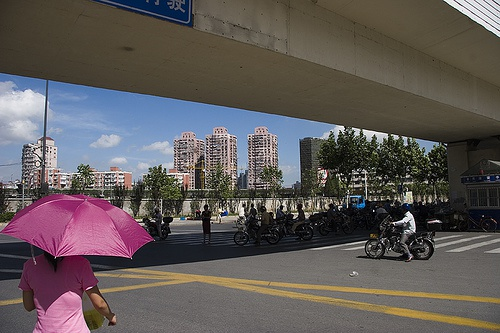non-vehicle: (365, 215, 436, 263), (233, 213, 281, 246), (316, 210, 355, 234), (282, 213, 314, 240), (141, 218, 172, 240), (237, 216, 246, 230)
